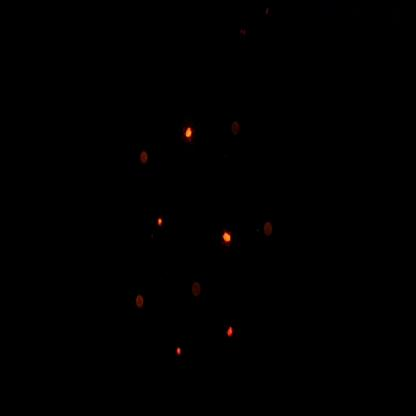PS: (125, 276, 154, 327), (187, 269, 210, 313), (260, 207, 281, 249), (226, 109, 248, 148), (137, 137, 153, 182)
PVC: (167, 326, 193, 376), (179, 111, 203, 157), (217, 217, 241, 261), (149, 202, 173, 243), (221, 316, 243, 351)
